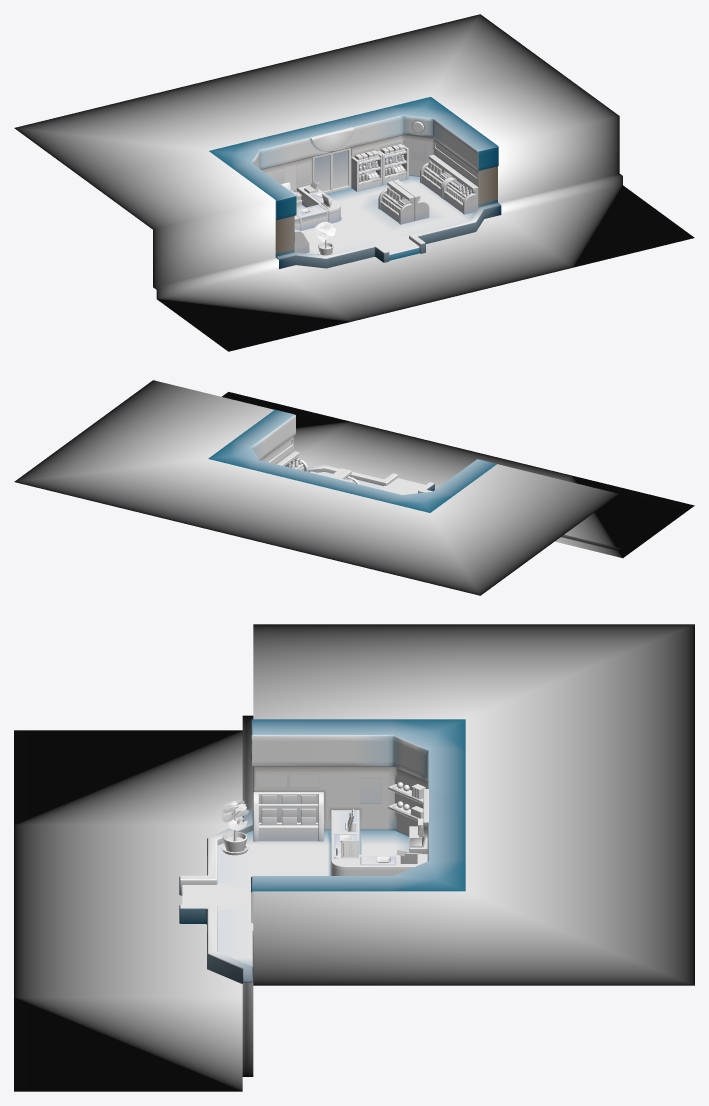
The model's file is poke-mart-interior.glb.
The picture shows the model from 3 angles, top to bottom: view 1: azimuth 30°, elevation 25°; view 2: azimuth 150°, elevation 25°; view 3: azimuth 270°, elevation 25°; orthographic projection. The views are drawn at different scales.
Visible parts, largest first — view 1: poke-mart-interior; view 2: poke-mart-interior; view 3: poke-mart-interior.
Boxes of the visible parts, x1,y1,x2,y2 form: poke-mart-interior: (14,14,694,351); poke-mart-interior: (14,380,694,595); poke-mart-interior: (14,624,694,1091).
Bounding box in the file's own units: 24.13 × 3.3 × 19.22.
